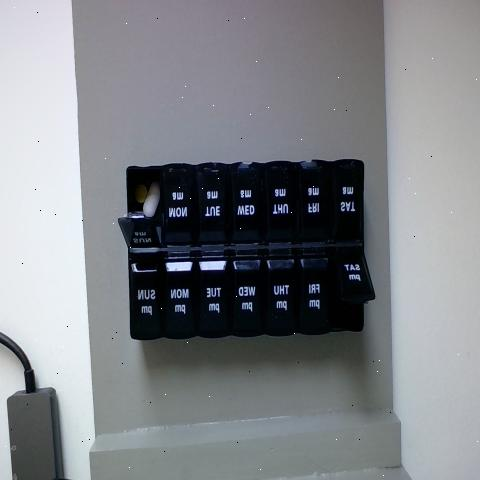FRI-am: (296, 166, 330, 246)
FRI-pm: (300, 258, 328, 330)
MON-am: (161, 169, 194, 247)
MON-pm: (161, 257, 194, 341)
Open: (118, 167, 161, 247), (331, 256, 377, 330)
Pill: (140, 184, 158, 217)
PillBox: (110, 120, 385, 400)
SAT-am: (330, 164, 362, 244)
SUN-pm: (132, 262, 160, 339)
THU-am: (262, 164, 296, 245)
THU-pm: (265, 250, 300, 334)
TUE-am: (194, 162, 226, 242)
TUE-pm: (200, 256, 228, 333)
WED-am: (231, 163, 260, 244)
WED-pm: (231, 254, 262, 334)
